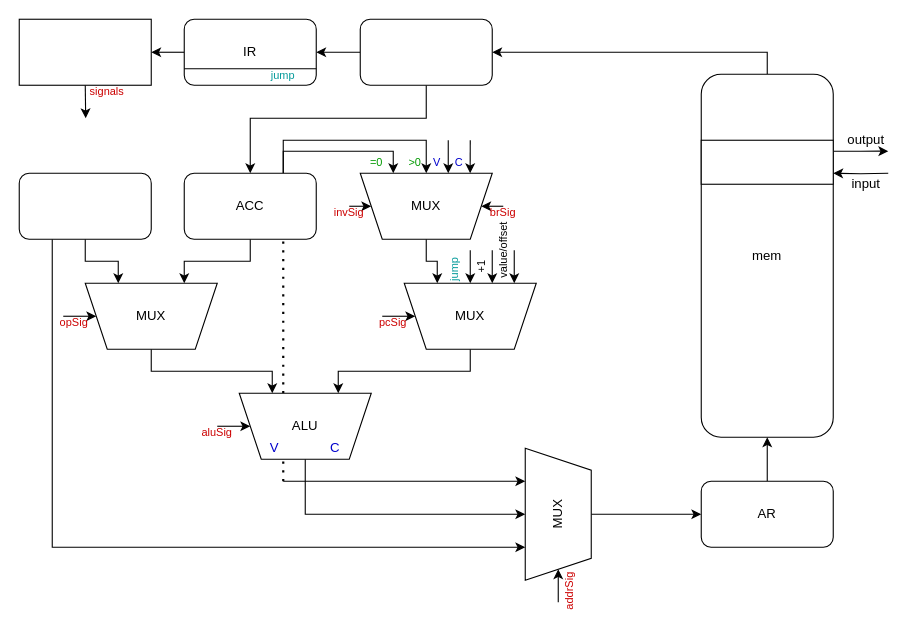
Some shapes in this 919 by 644 pixel diagram are drawn without their labels. Here are the shapes that lost their labels. From the top down, the centre of each, then its label:
point (84, 51): CU
point (425, 51): DR
point (766, 161): i/o
point (84, 205): PC
